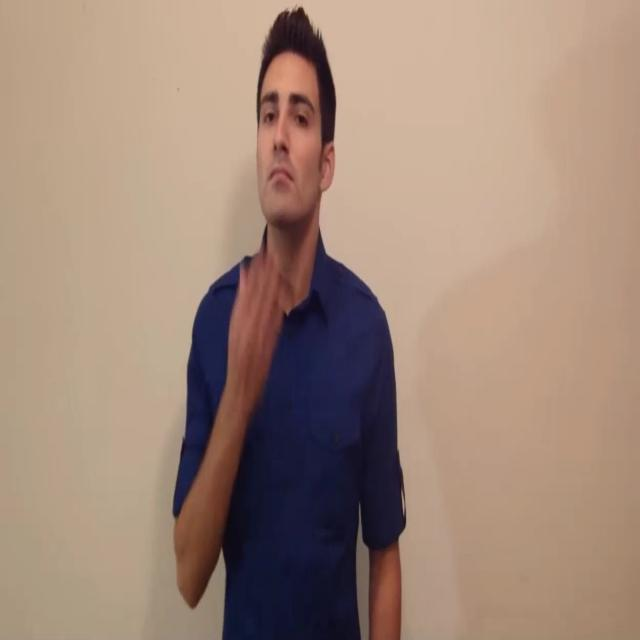ThankYou: (172, 6, 405, 640)
